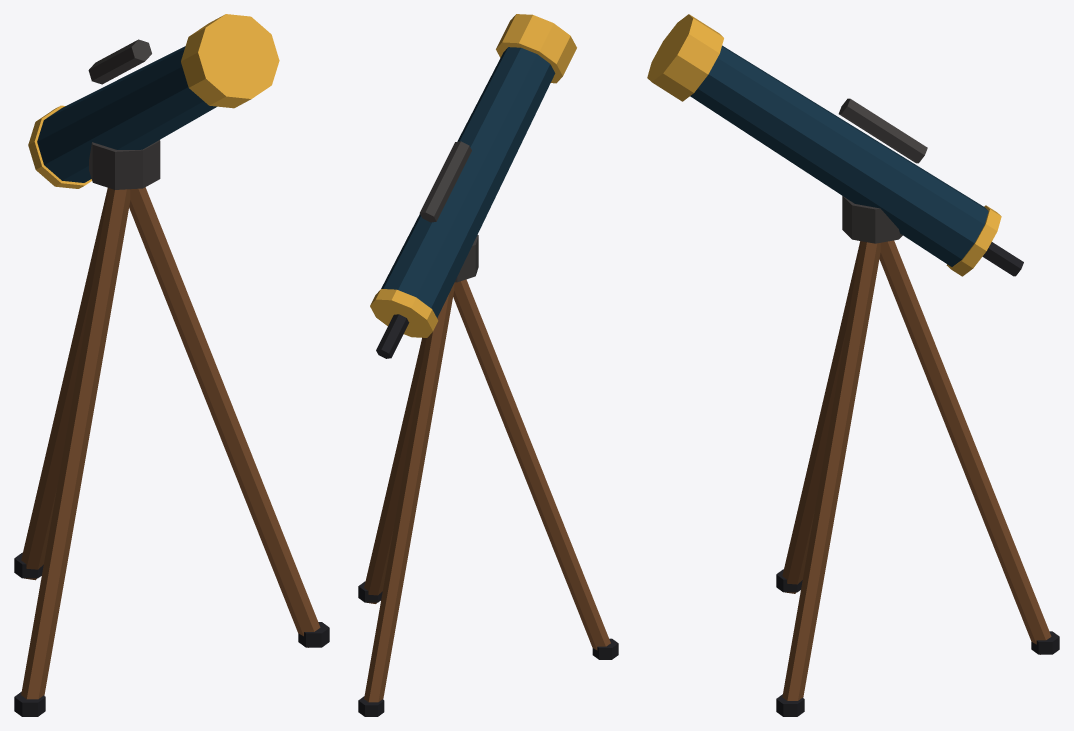
Rendered from telescope_on_tripod.glb.
3 renders of one model, left to right at view 1: azimuth 30°, elevation 25°; view 2: azimuth 150°, elevation 25°; view 3: azimuth 270°, elevation 25°, orthographic. The views are drawn at different scales.
Parts seen in each view (by area): view 1: telescope_on_tripod, part_tube; view 2: part_tube, telescope_on_tripod; view 3: part_tube, telescope_on_tripod.
Part boxes in pixels (box(x1,y1,x2,y2)): telescope_on_tripod: box(14, 140, 329, 716); part_tube: box(28, 14, 279, 188); part_tube: box(370, 14, 576, 358); telescope_on_tripod: box(358, 235, 618, 716); part_tube: box(647, 14, 1023, 276); telescope_on_tripod: box(776, 196, 1059, 716).
Size of the model in its own units: 0.6755 by 1.48 by 0.8729.
